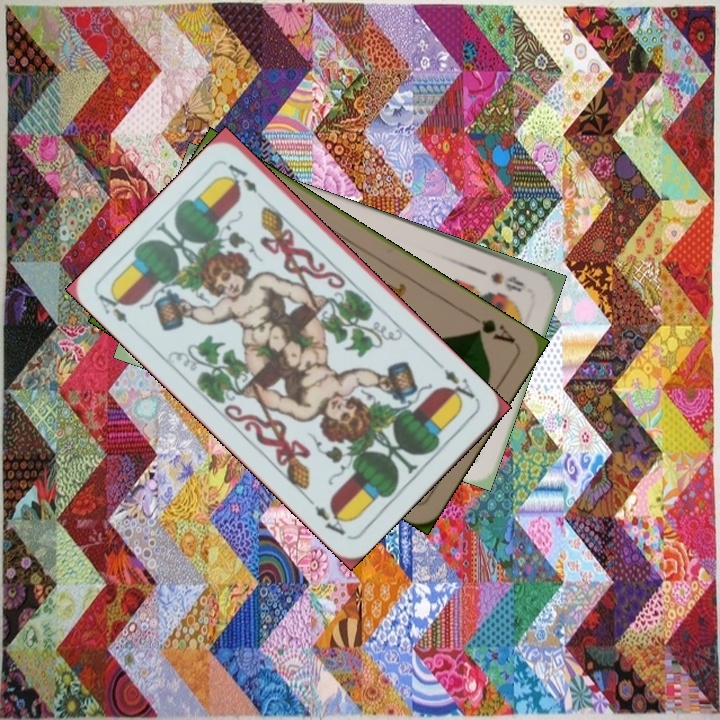EA: (94, 285, 141, 337), (434, 359, 481, 406)
GA: (466, 309, 519, 347)
S8: (486, 268, 527, 295)
